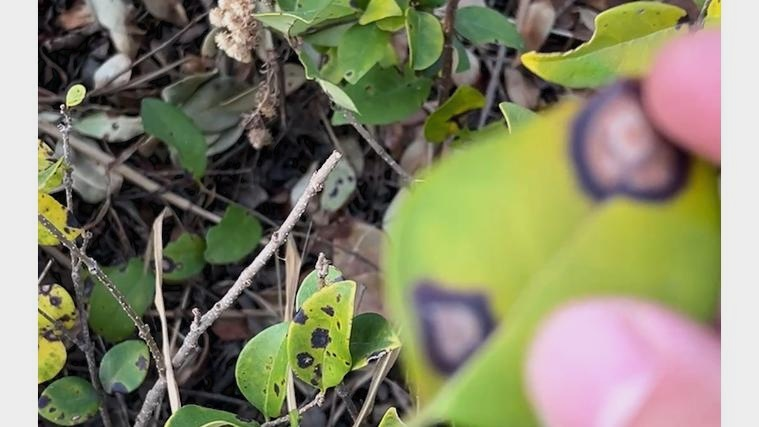Anthracnose: (31, 151, 141, 364), (371, 277, 493, 366), (254, 278, 359, 378), (521, 100, 636, 173)
